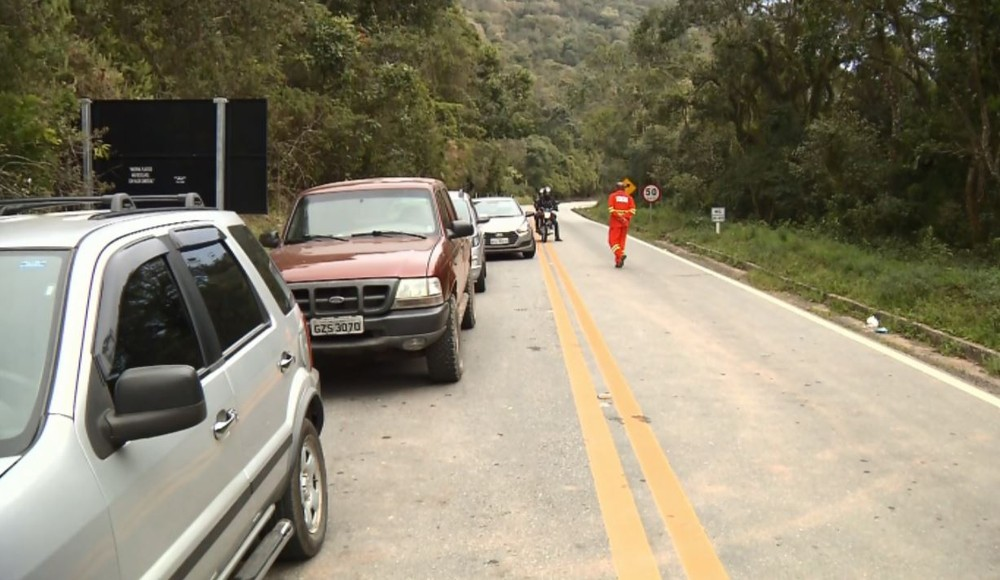Carro: (1, 185, 360, 579), (253, 163, 491, 393), (435, 182, 491, 294), (470, 194, 537, 265)
Moto: (527, 182, 569, 248)
